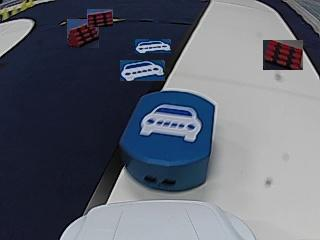safety: (139, 105, 205, 140)
